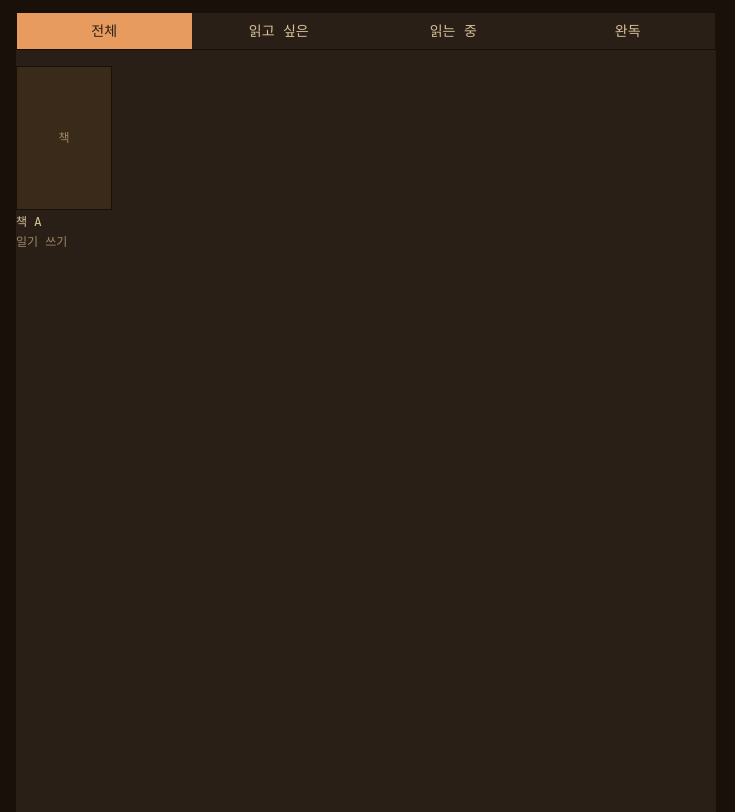
Scenario: BookGrid › 필터 결과가 없으면 EmptyState를 렌더한다
Click the tab "완독". click: (628, 31)
box: [540,13,715,49]
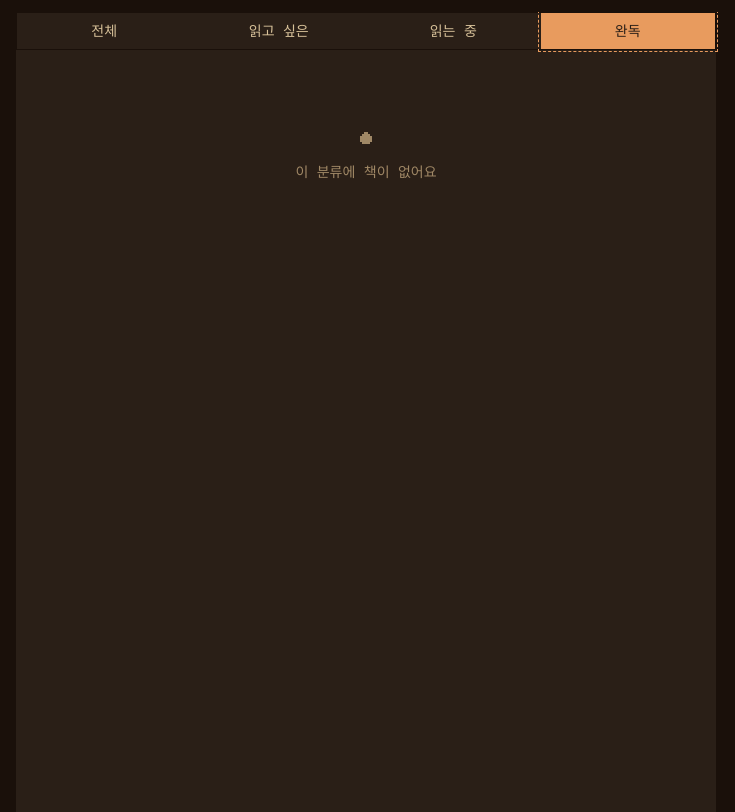
Result: the text "이 분류에 책이 없어요" is shown at [295,162,437,182]
